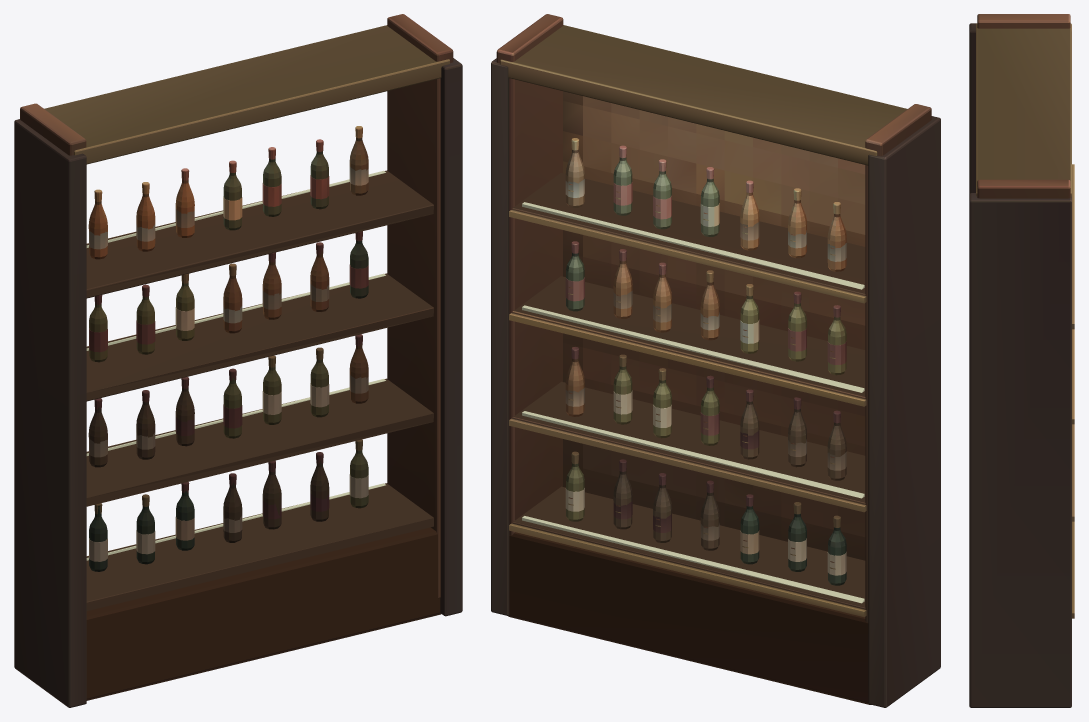
Rendered from gallery.glb.
3 renders of one model, left to right at view 1: azimuth 30°, elevation 25°; view 2: azimuth 150°, elevation 25°; view 3: azimuth 270°, elevation 25°, orthographic. The views are drawn at different scales.
Parts seen in each view (by area): view 1: Surface; view 2: Surface; view 3: Surface.
Part boxes in pixels (x1=…): Surface: x1=14, y1=14, x2=462, y2=707; Surface: x1=491, y1=14, x2=940, y2=707; Surface: x1=969, y1=14, x2=1074, y2=707.
Size of the model in its own units: 1.81 by 2.46 by 0.4511.
